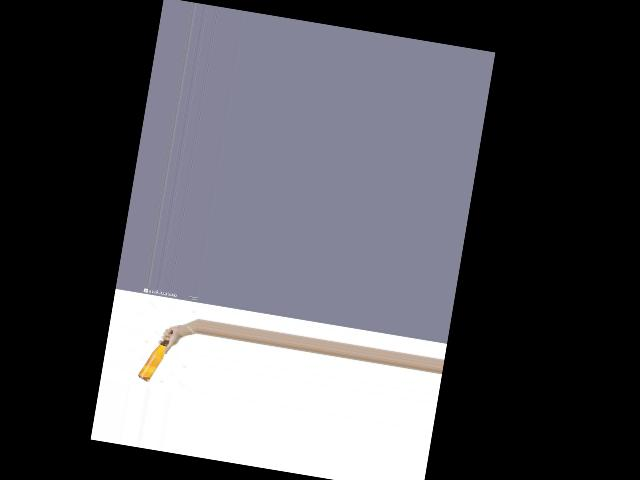beer: (137, 327, 172, 385)
